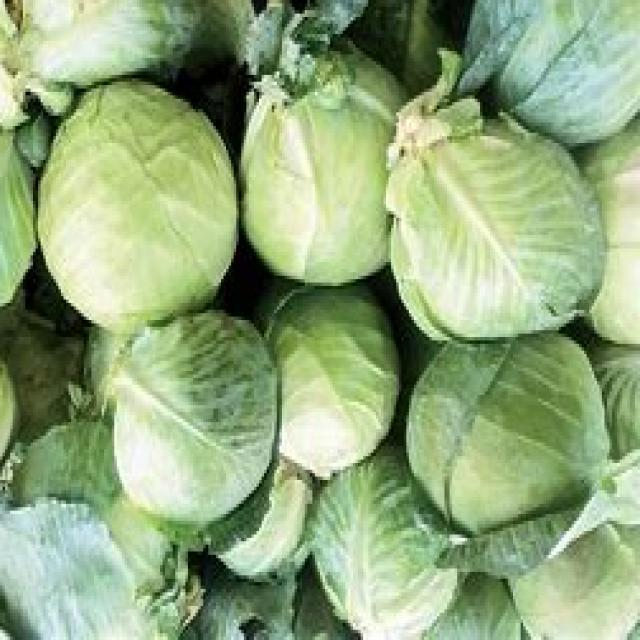cabbage: (381, 95, 615, 341), (45, 73, 247, 325), (407, 337, 620, 529), (227, 57, 406, 282), (113, 316, 280, 526)
